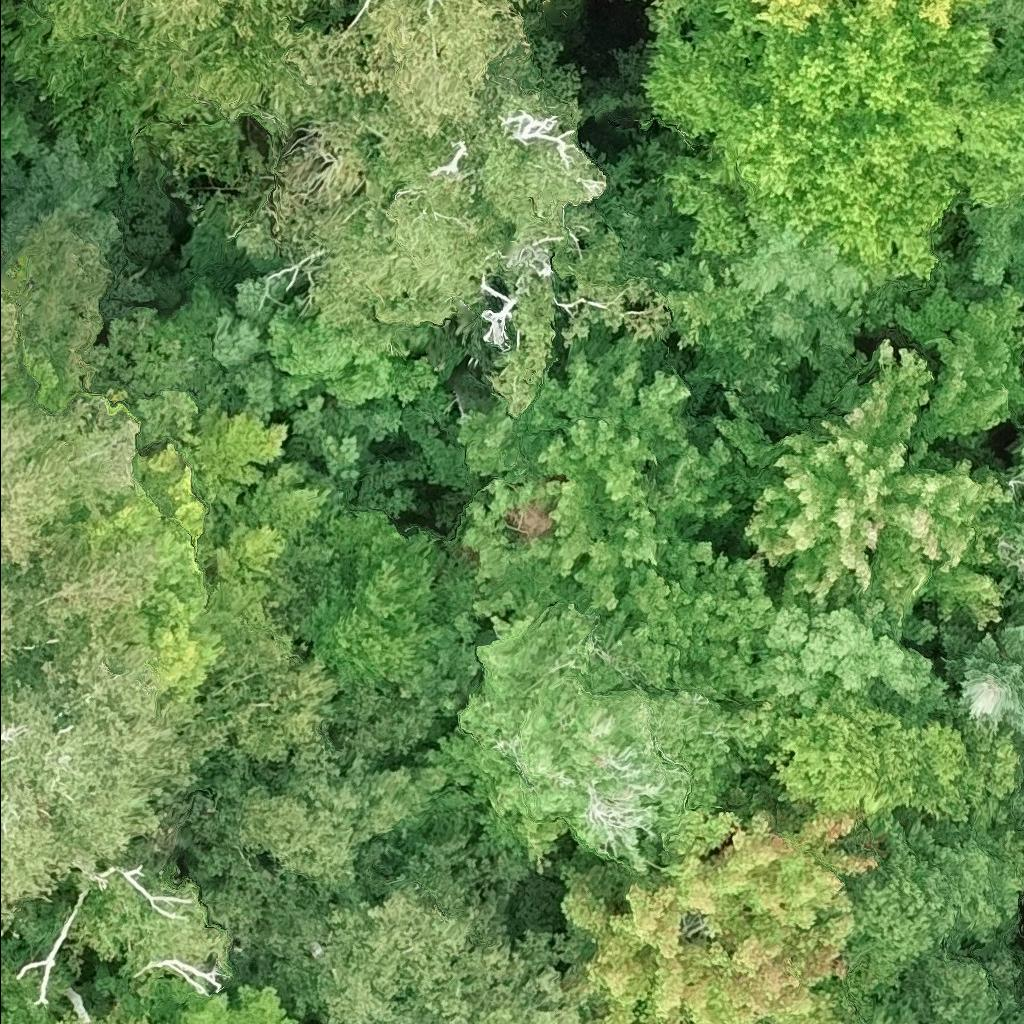crown: (310, 53, 667, 416), (639, 0, 1023, 287), (712, 334, 1019, 626), (453, 326, 746, 627), (424, 599, 738, 874), (81, 400, 339, 710), (0, 609, 211, 940), (560, 810, 878, 1023), (0, 293, 159, 673), (121, 0, 539, 139), (0, 0, 335, 143), (301, 876, 586, 1023), (762, 678, 1022, 821), (231, 711, 425, 901), (586, 535, 776, 702), (267, 308, 444, 442), (893, 275, 1023, 449), (936, 601, 1023, 789), (77, 882, 234, 971), (748, 0, 904, 45), (0, 954, 59, 1023), (993, 493, 1023, 607), (56, 1001, 177, 1023), (917, 0, 999, 29), (0, 0, 10, 36)
